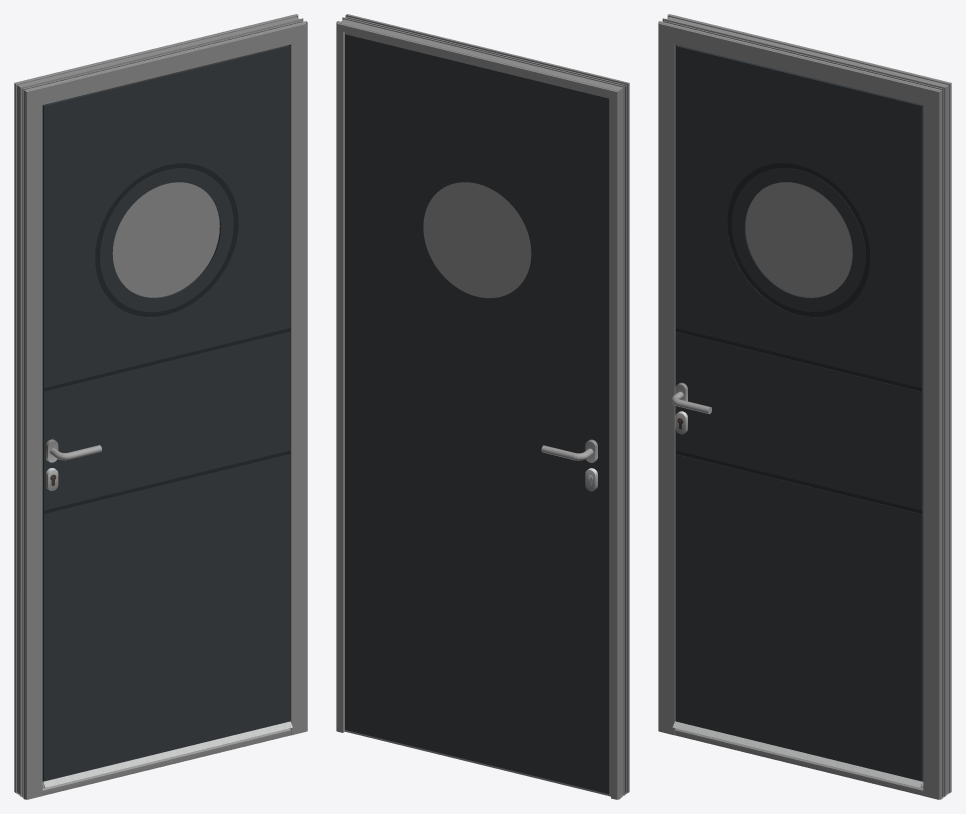
3 views of the same model, side by side, from view 1: azimuth 30°, elevation 25°; view 2: azimuth 150°, elevation 25°; view 3: azimuth 330°, elevation 25° (orthographic).
Parts seen in each view (by area): view 1: bloco_22, aroFixo, Box001, rodapé, escovas, puxador001; view 2: bloco_22, aroFixo, Box002, puxador, rodapé; view 3: bloco_22, aroFixo, Box001, rodapé, escovas, puxador001.
Boxes of the visible parts, x1=… form: bloco_22: x1=42, y1=45, x2=289, y2=781; aroFixo: x1=14, y1=14, x2=307, y2=799; Box001: x1=112, y1=182, x2=219, y2=297; rodapé: x1=42, y1=728, x2=290, y2=795; escovas: x1=42, y1=721, x2=292, y2=787; puxador001: x1=46, y1=439, x2=101, y2=491; bloco_22: x1=345, y1=34, x2=609, y2=793; aroFixo: x1=336, y1=14, x2=629, y2=799; Box002: x1=423, y1=182, x2=531, y2=297; puxador: x1=541, y1=439, x2=597, y2=491; rodapé: x1=348, y1=731, x2=609, y2=795; bloco_22: x1=676, y1=45, x2=923, y2=781; aroFixo: x1=658, y1=14, x2=951, y2=799; Box001: x1=745, y1=182, x2=852, y2=297; rodapé: x1=675, y1=728, x2=923, y2=795; escovas: x1=672, y1=721, x2=923, y2=787; puxador001: x1=671, y1=382, x2=711, y2=434.
Bounding box in the file's own units: 898 × 2151 × 209.
Materials: 10 (5 with a texture image).
